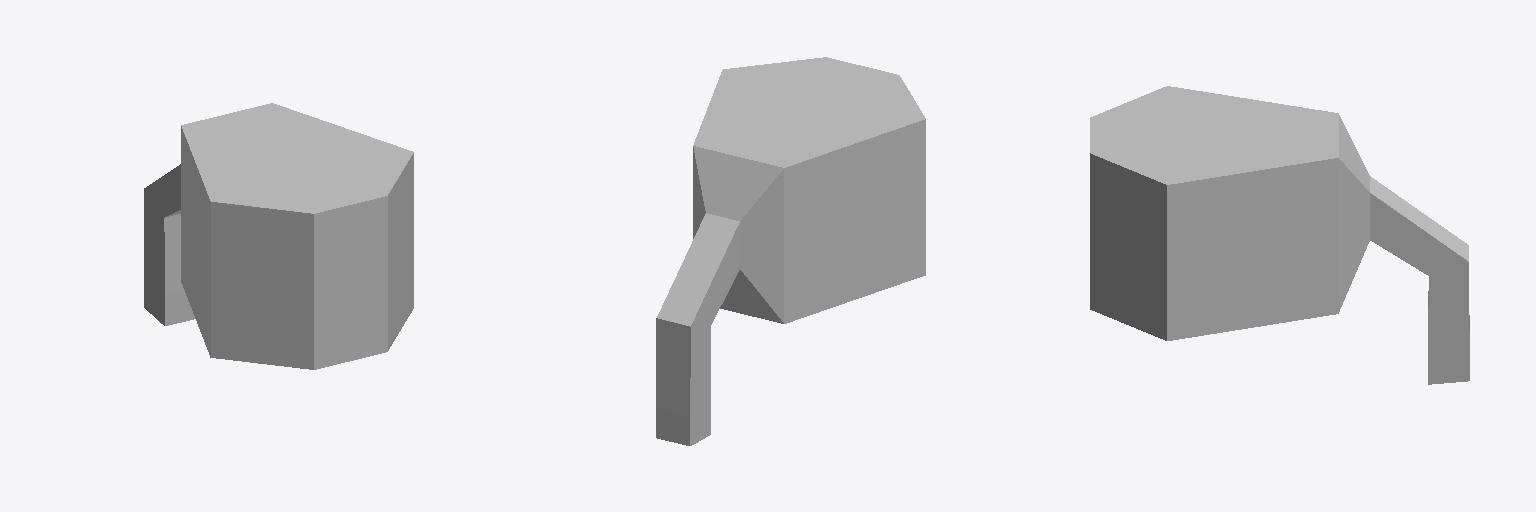
File: Platform20.obj
3 views of the same model, side by side, from view 1: azimuth 30°, elevation 25°; view 2: azimuth 150°, elevation 25°; view 3: azimuth 270°, elevation 25° (orthographic).
Visible parts, largest first — view 1: Platform20; view 2: Platform20; view 3: Platform20.
Part boxes in pixels (left/top/right/bottom): Platform20: left=144, top=103, right=413, bottom=369; Platform20: left=656, top=57, right=925, bottom=445; Platform20: left=1090, top=86, right=1469, bottom=384.
Bounding box in the file's own units: 9.4 × 10.64 × 15.18.